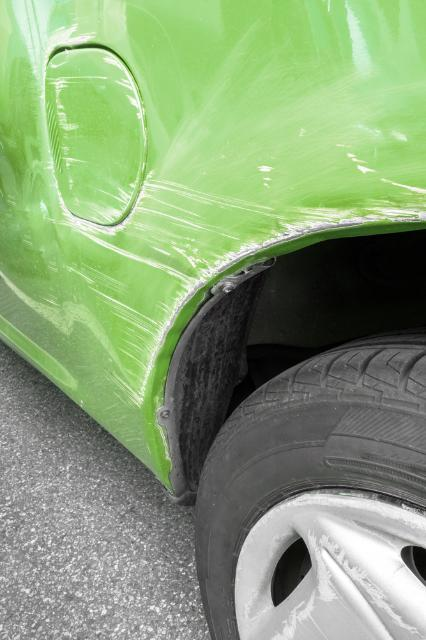scratch: (0, 139, 426, 410), (49, 47, 147, 219)
